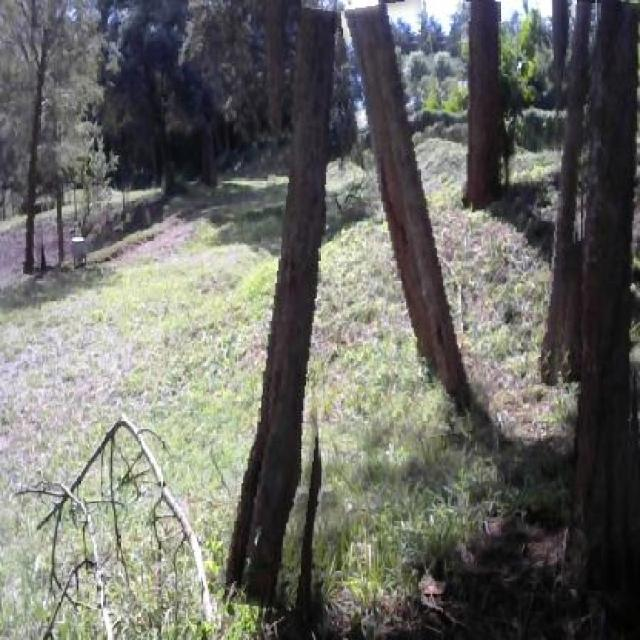tree trunk: (234, 8, 351, 610), (357, 0, 475, 437), (564, 0, 640, 591), (536, 0, 592, 386), (451, 0, 515, 217), (12, 28, 58, 275)
